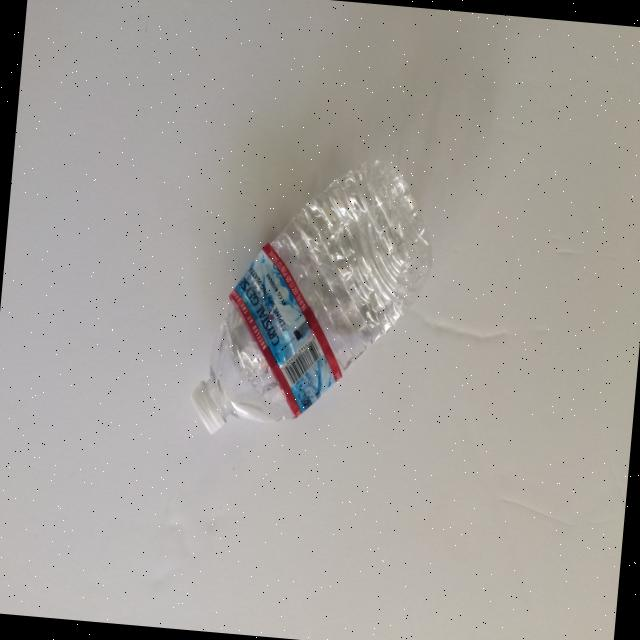plastic: (186, 142, 440, 452)
